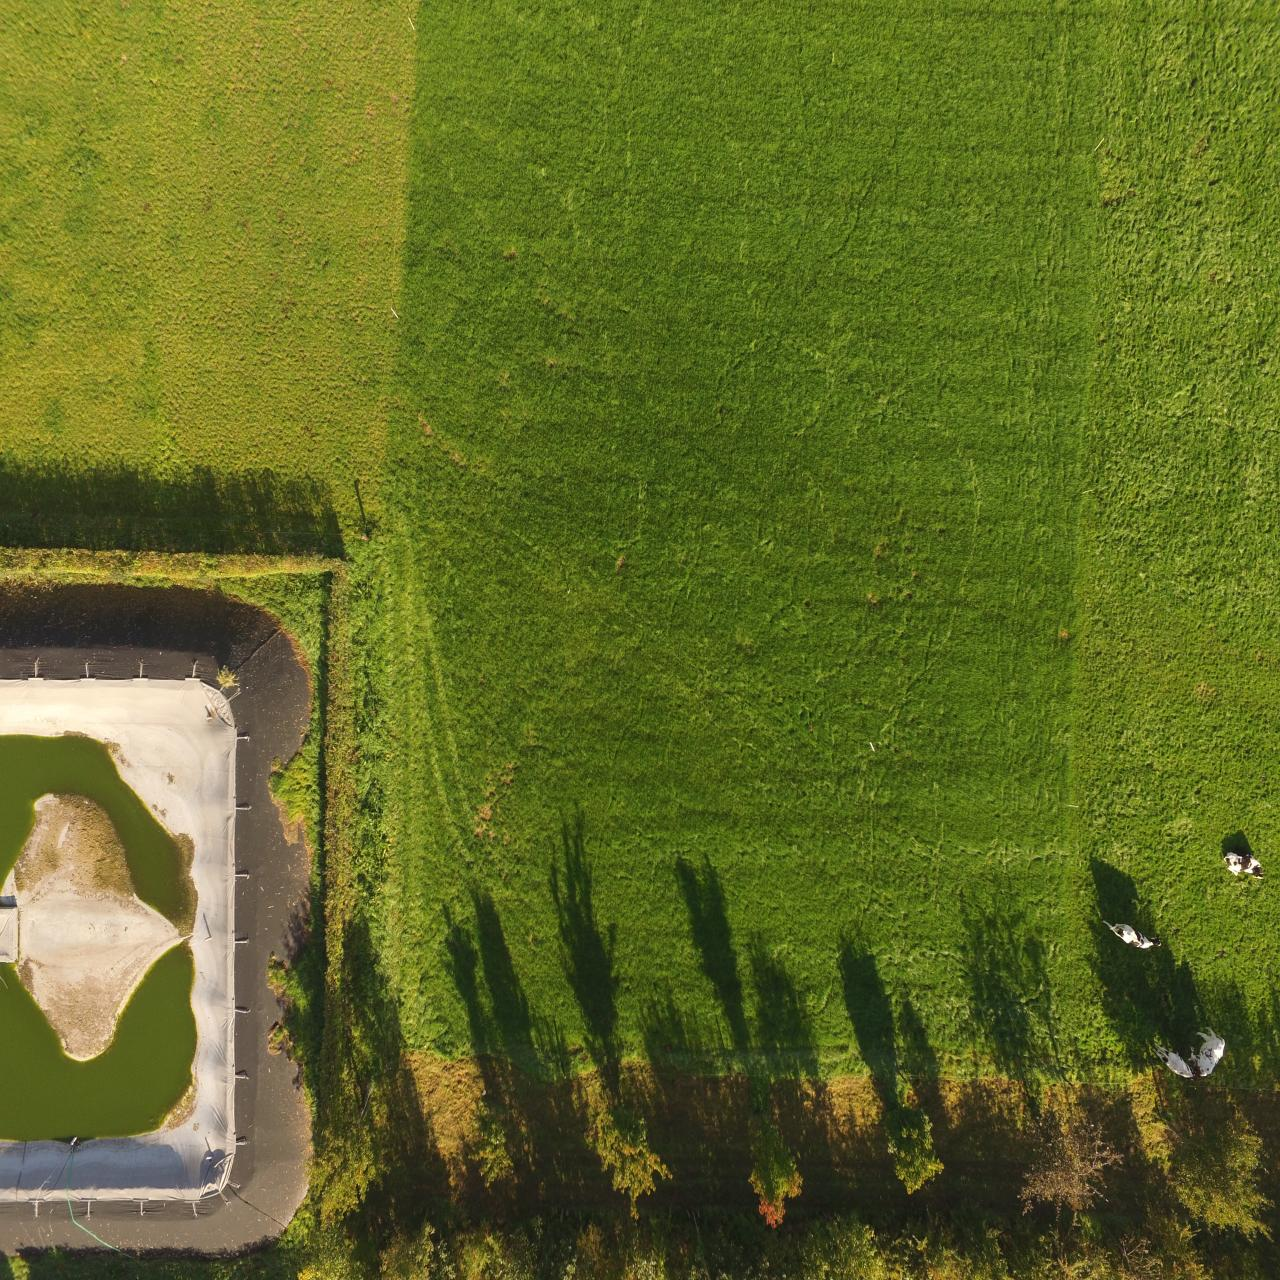cow: (1220, 840, 1269, 897), (1149, 1040, 1198, 1092), (1096, 914, 1164, 952), (1197, 1029, 1232, 1089)
